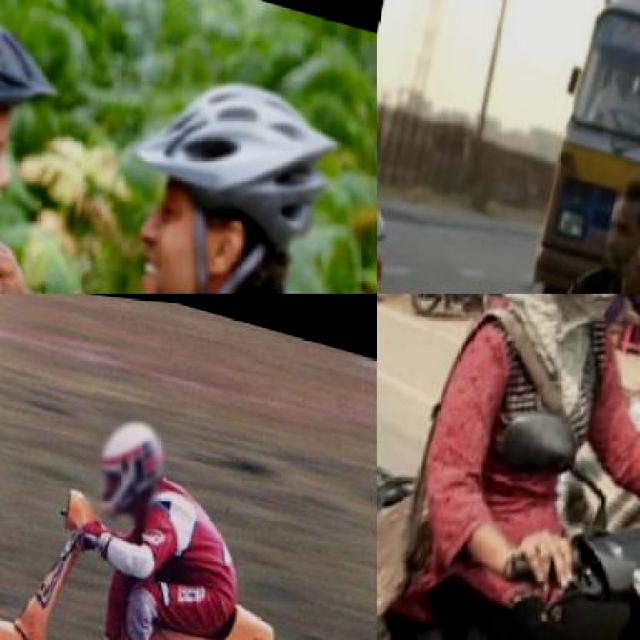With Helmet: (97, 28, 355, 292), (0, 0, 77, 245), (81, 395, 177, 527), (514, 294, 638, 348)
Without Helmet: (600, 154, 638, 283)
